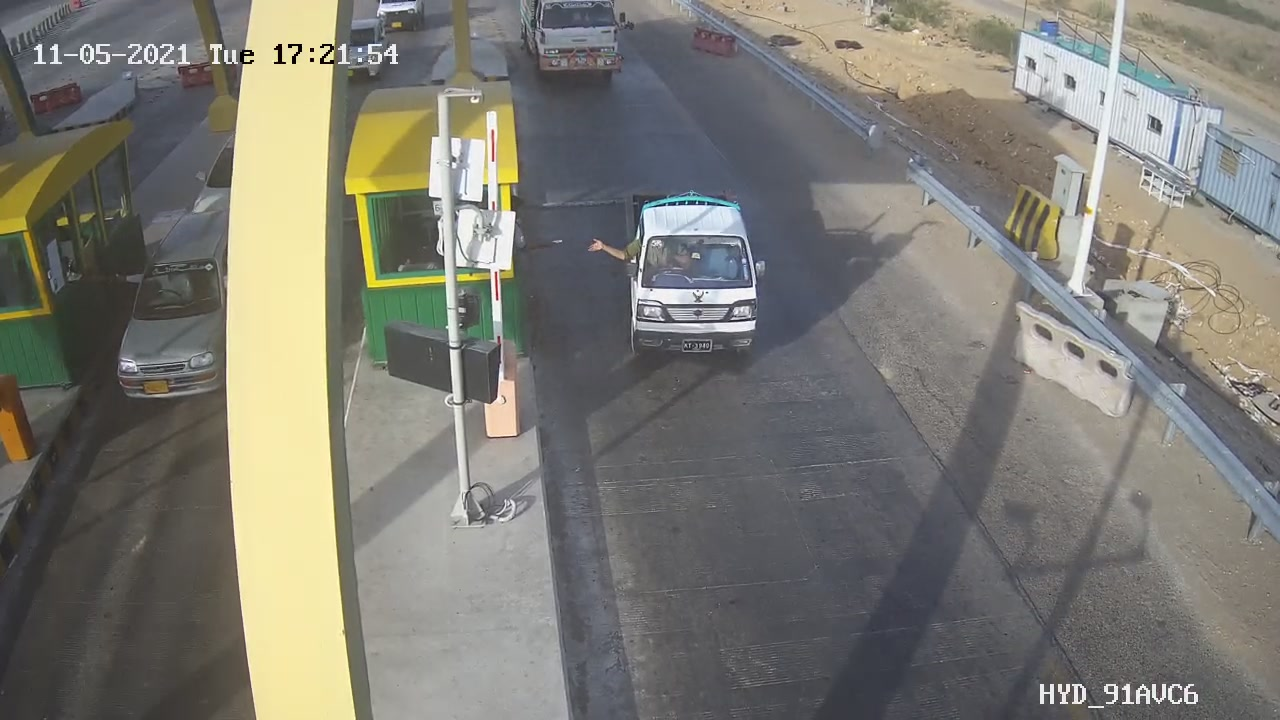F1: (607, 173, 782, 386)
